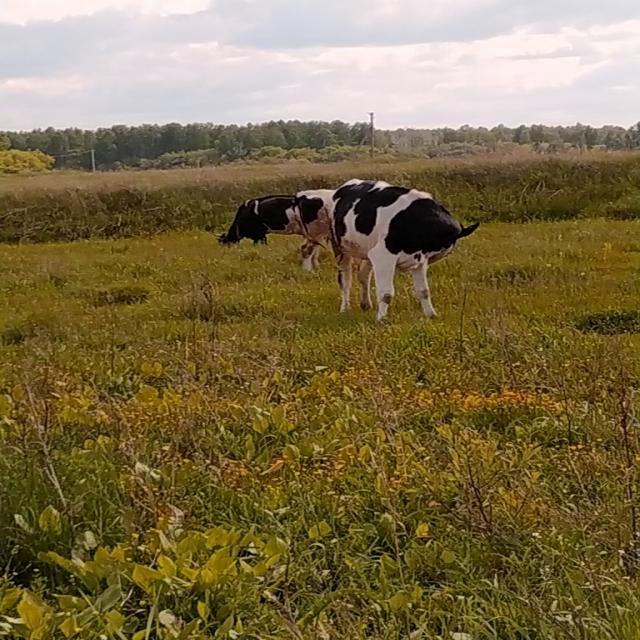cow: (331, 179, 479, 321)
